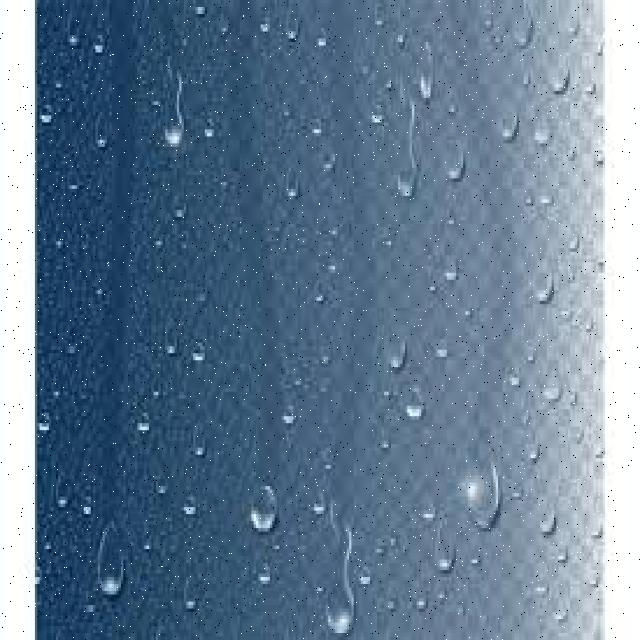raindrop: (452, 430, 520, 554), (313, 515, 375, 640), (248, 467, 296, 567), (87, 513, 134, 614), (432, 114, 486, 196), (389, 131, 438, 217), (166, 91, 209, 168)
